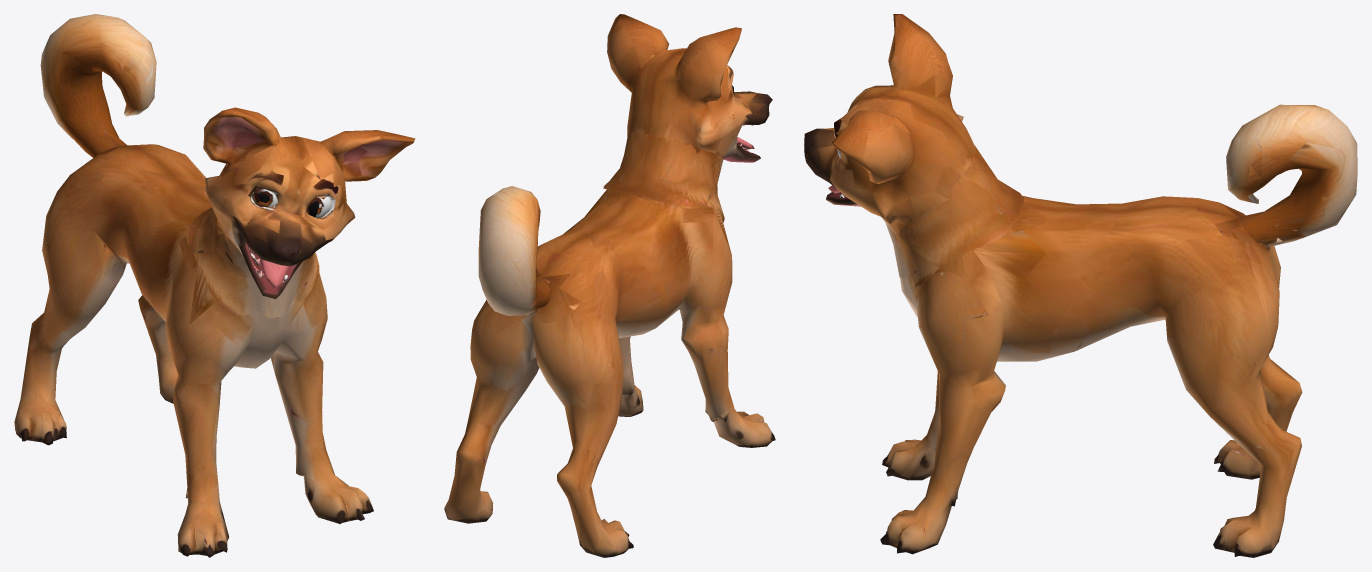
Rendered from dog.glb.
3 views of the same model, side by side, from view 1: azimuth 30°, elevation 25°; view 2: azimuth 150°, elevation 25°; view 3: azimuth 270°, elevation 25° (orthographic). The views are drawn at different scales.
Parts seen in each view (by area): view 1: Mesh0; view 2: Mesh0; view 3: Mesh0.
Boxes of the visible parts, x1,y1,x2,y2 form: Mesh0: (14,14,415,557); Mesh0: (444,14,775,557); Mesh0: (804,14,1357,557).
Size of the model in its own units: 0.4576 by 0.9308 by 1.
Materials: 1 (1 with a texture image).
